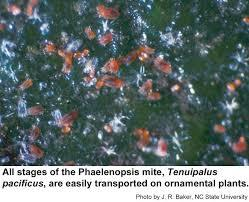insect: (94, 3, 124, 19), (13, 72, 35, 93), (26, 144, 47, 165), (137, 76, 154, 100), (59, 107, 80, 126), (152, 59, 175, 76), (157, 137, 173, 161), (138, 40, 161, 56), (118, 48, 137, 67), (135, 48, 153, 68), (231, 136, 249, 156), (25, 104, 46, 121), (101, 76, 125, 90), (107, 56, 122, 78), (97, 30, 114, 49), (27, 125, 42, 145), (61, 52, 75, 71), (57, 65, 78, 77), (211, 122, 229, 136), (84, 24, 96, 42), (144, 91, 162, 103), (53, 46, 67, 60), (44, 40, 57, 54), (93, 77, 104, 92), (60, 123, 72, 136), (83, 46, 92, 59)
